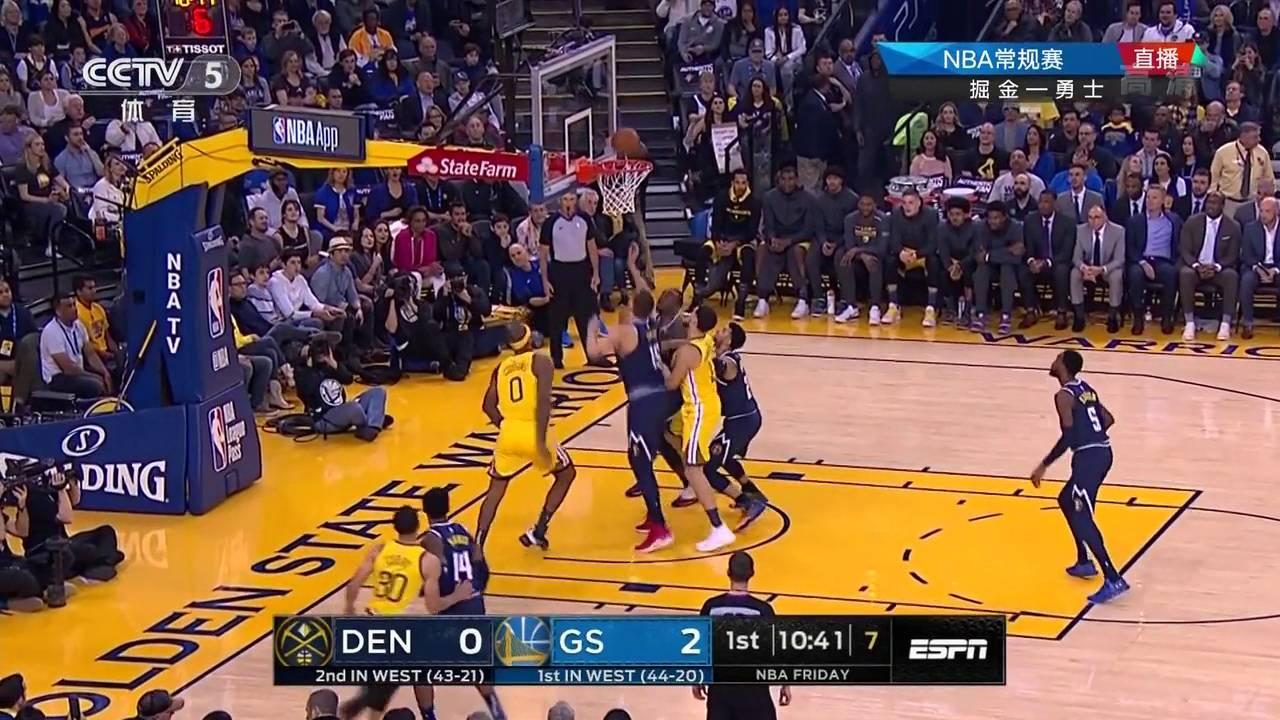basketball: (610, 127, 640, 156)
